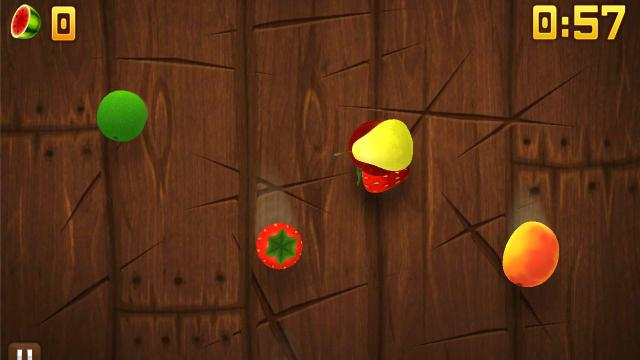fruit: (501, 221, 561, 287), (352, 120, 412, 170), (96, 90, 148, 142), (257, 223, 303, 269), (362, 167, 408, 193)
ignore: (10, 4, 42, 40)
